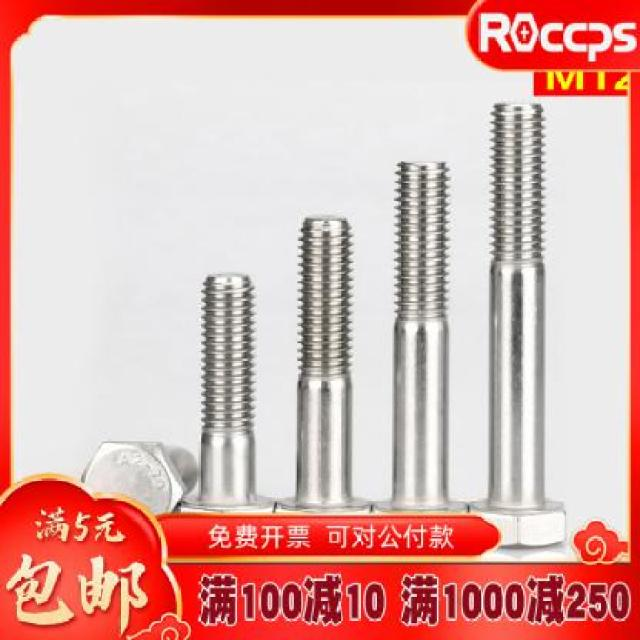Bolt: (469, 98, 572, 551), (374, 158, 473, 514), (276, 216, 378, 518), (179, 271, 279, 515), (79, 437, 197, 520)
